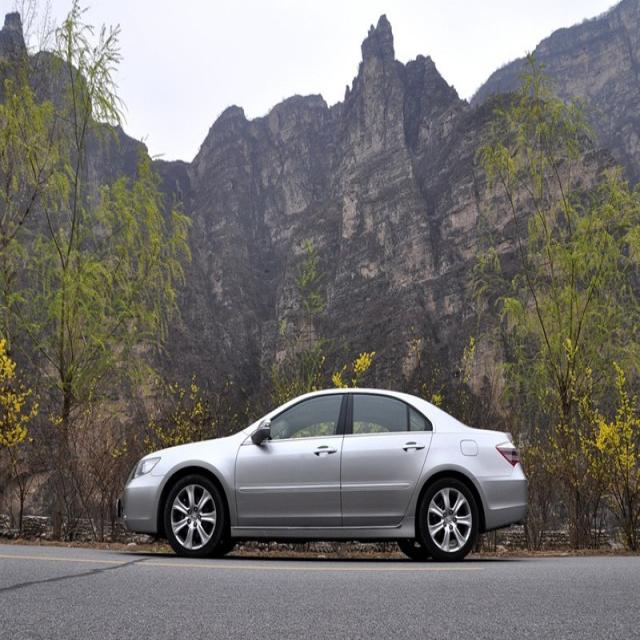back_left_side_light: (495, 439, 519, 466)
door: (332, 388, 432, 530)
front_bumper: (122, 471, 168, 534)
front_left_side_door: (234, 388, 347, 533)
front_left_side_light: (130, 455, 162, 480)
front_left_side_mirror: (254, 418, 272, 443)
rear_bumper: (475, 463, 529, 529)
wheel: (166, 475, 224, 558), (421, 477, 478, 561)
